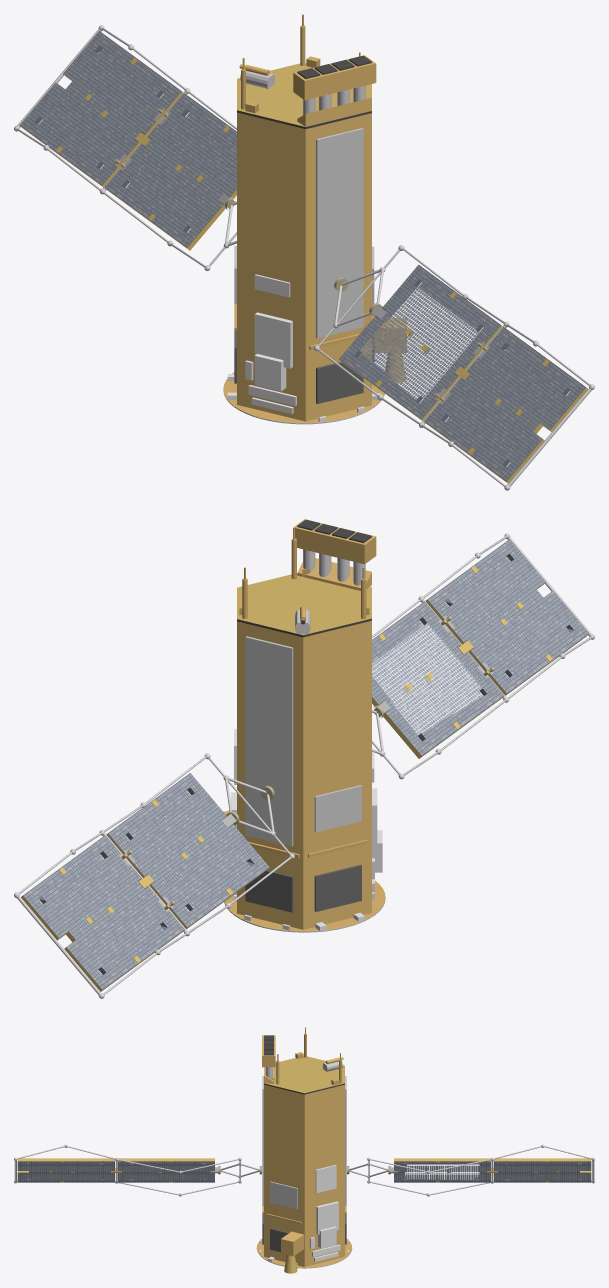
Rendered from Orbiting Carbon Observatory (OCO) 2.glb.
3 renders of one model, top to bottom at view 1: azimuth 30°, elevation 25°; view 2: azimuth 150°, elevation 25°; view 3: azimuth 270°, elevation 25°, orthographic. The views are drawn at different scales.
Parts seen in each view (by area): view 1: Layer_0; view 2: Layer_0; view 3: Layer_0.
Boxes of the visible parts, x1,y1,x2,y2 form: Layer_0: [14, 14, 594, 490]; Layer_0: [14, 519, 594, 998]; Layer_0: [14, 1027, 594, 1273].
Size of the model in its own units: 7.63 by 15.42 by 39.87.
